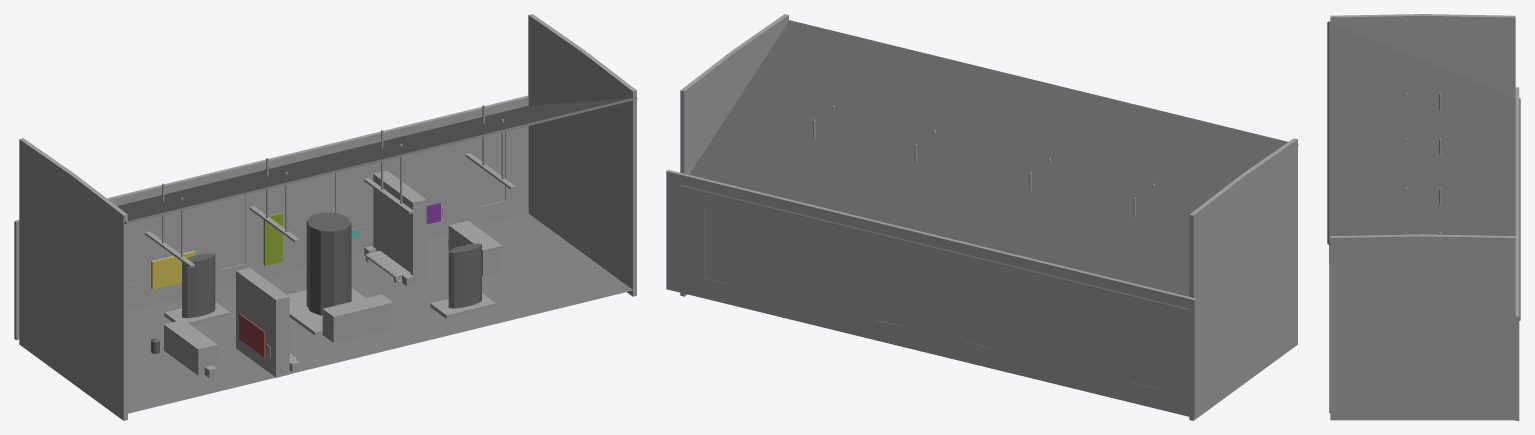
File: museum_artgallerymesh(V6).fbx
3 renders of one model, left to right at view 1: azimuth 30°, elevation 25°; view 2: azimuth 150°, elevation 25°; view 3: azimuth 270°, elevation 25°, orthographic. The views are drawn at different scales.
Visible parts, largest first — view 1: floor, artgallerymainwall, sidewall, sidewall1, ceiling, statue1, galleryWall2, galleryWall1, statue3, statue2, pCube57, window1 (+11 smaller); view 2: ceiling, artgallerymainwall, sidewall, sidewall1, window2, window, window1, window3; view 3: sidewall1, ceiling, sidewall, artgallerymainwall, floor.
Part boxes in pixels (x1,y1,x2,y2): floor: (127,213,635,413); artgallerymainwall: (14,95,528,340); sidewall: (19,138,127,420); sidewall1: (528,14,636,296); ceiling: (117,97,637,223); statue1: (306,212,351,315); galleryWall2: (373,170,426,279); galleryWall1: (236,267,289,377); statue3: (448,243,481,308); statue2: (182,253,215,318); pCube57: (322,294,392,334); window1: (220,195,245,269); ceiling: (678,20,1298,311); artgallerymainwall: (666,170,1196,417); sidewall: (1189,138,1297,420); sidewall1: (680,14,788,296); window2: (875,247,901,325); window: (1131,309,1156,388); window1: (965,269,990,347); window3: (705,205,730,284); sidewall1: (1330,234,1515,420); ceiling: (1327,21,1520,320); sidewall: (1330,14,1515,97); artgallerymainwall: (1515,87,1519,420); floor: (1329,263,1330,413).
Size of the model in its own units: 150 by 56.39 by 53.79.
